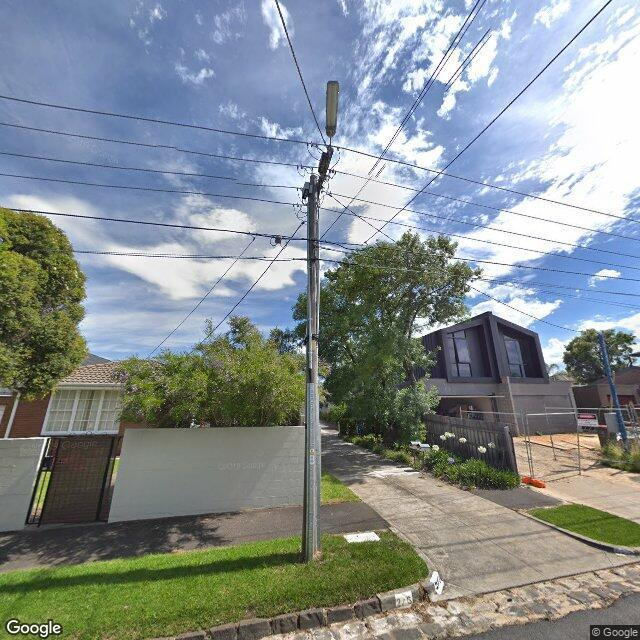streetlight: (324, 79, 341, 150)
timber-pole: (301, 175, 320, 563)
